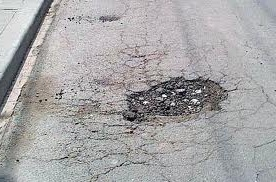pothole: (119, 76, 230, 128)
